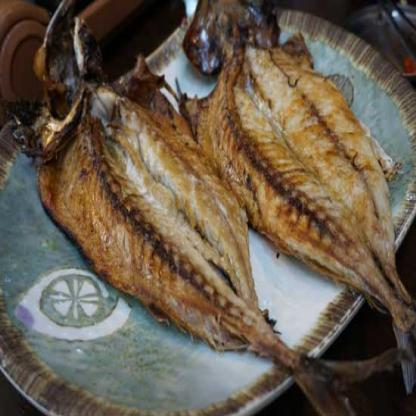Peixe: (35, 5, 416, 416)
